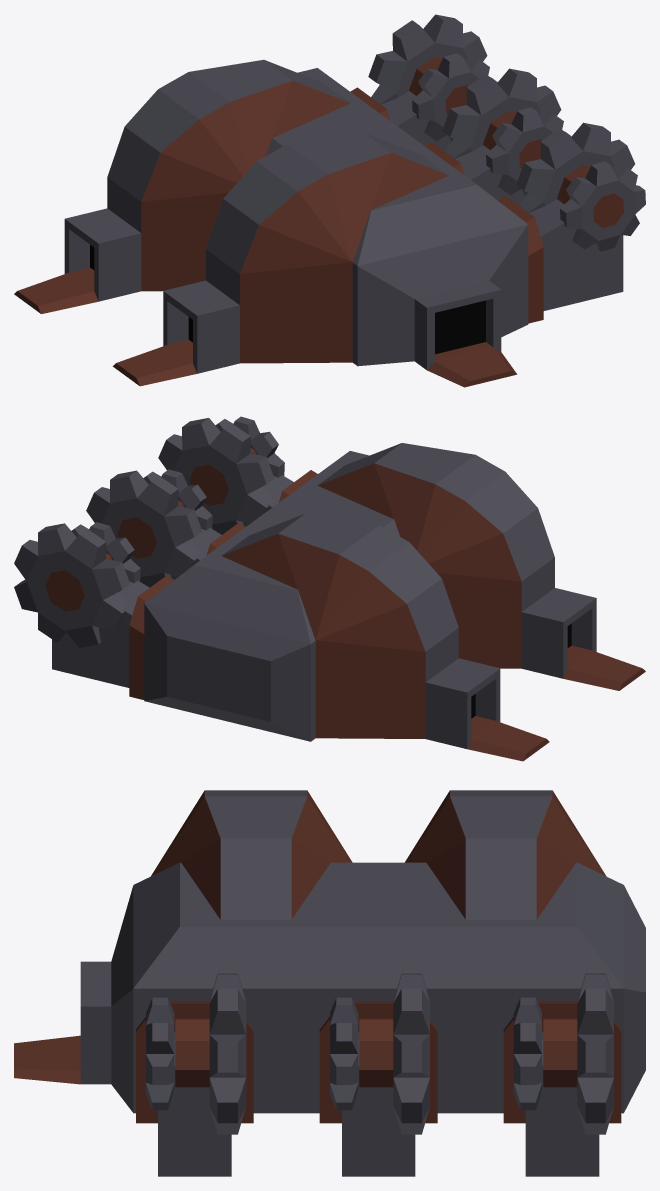
Rendered from DetailStation.fbx.
The picture shows the model from 3 angles, top to bottom: view 1: azimuth 30°, elevation 25°; view 2: azimuth 150°, elevation 25°; view 3: azimuth 270°, elevation 25°; orthographic projection. The views are drawn at different scales.
Visible parts, largest first — view 1: Cube; view 2: Cube; view 3: Cube.
Part boxes in pixels (x1,y1,x2,y2): Cube: (14, 14, 645, 387); Cube: (14, 416, 645, 761); Cube: (14, 790, 645, 1176).
Size of the model in its own units: 1157 by 387 by 1031.
